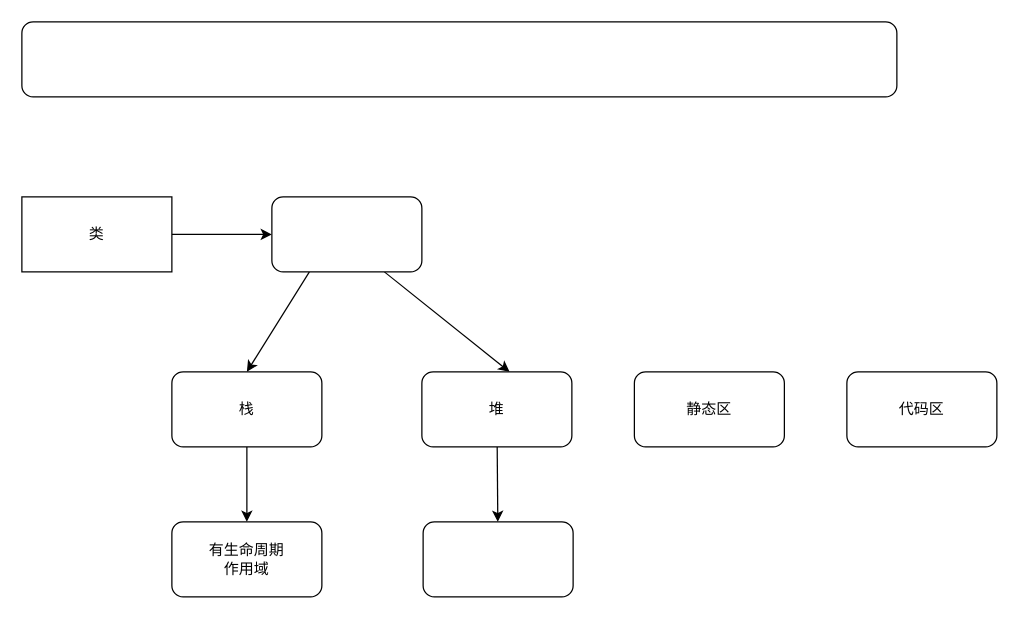
The diagram is 1019 pixels wide and 619 high, and some of its shapes have lost their labels. Each missing label, with the box of its shape:
How to CREATE/INSTANTIATE OBJECTS in C++ 如何在 C++ 中创建/实例化对象: (21, 21, 897, 97)
一直存在 需要手动释放: (422, 521, 573, 597)
占用内存存储: (271, 196, 422, 272)
